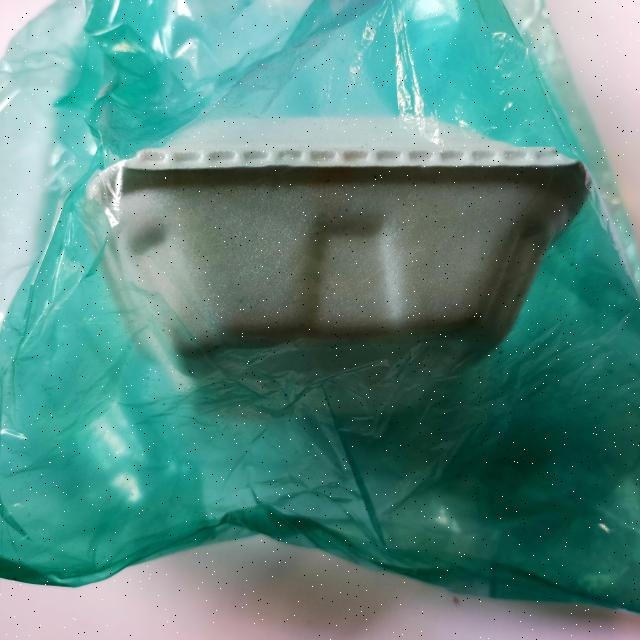styrofoam: (1, 1, 639, 618)
